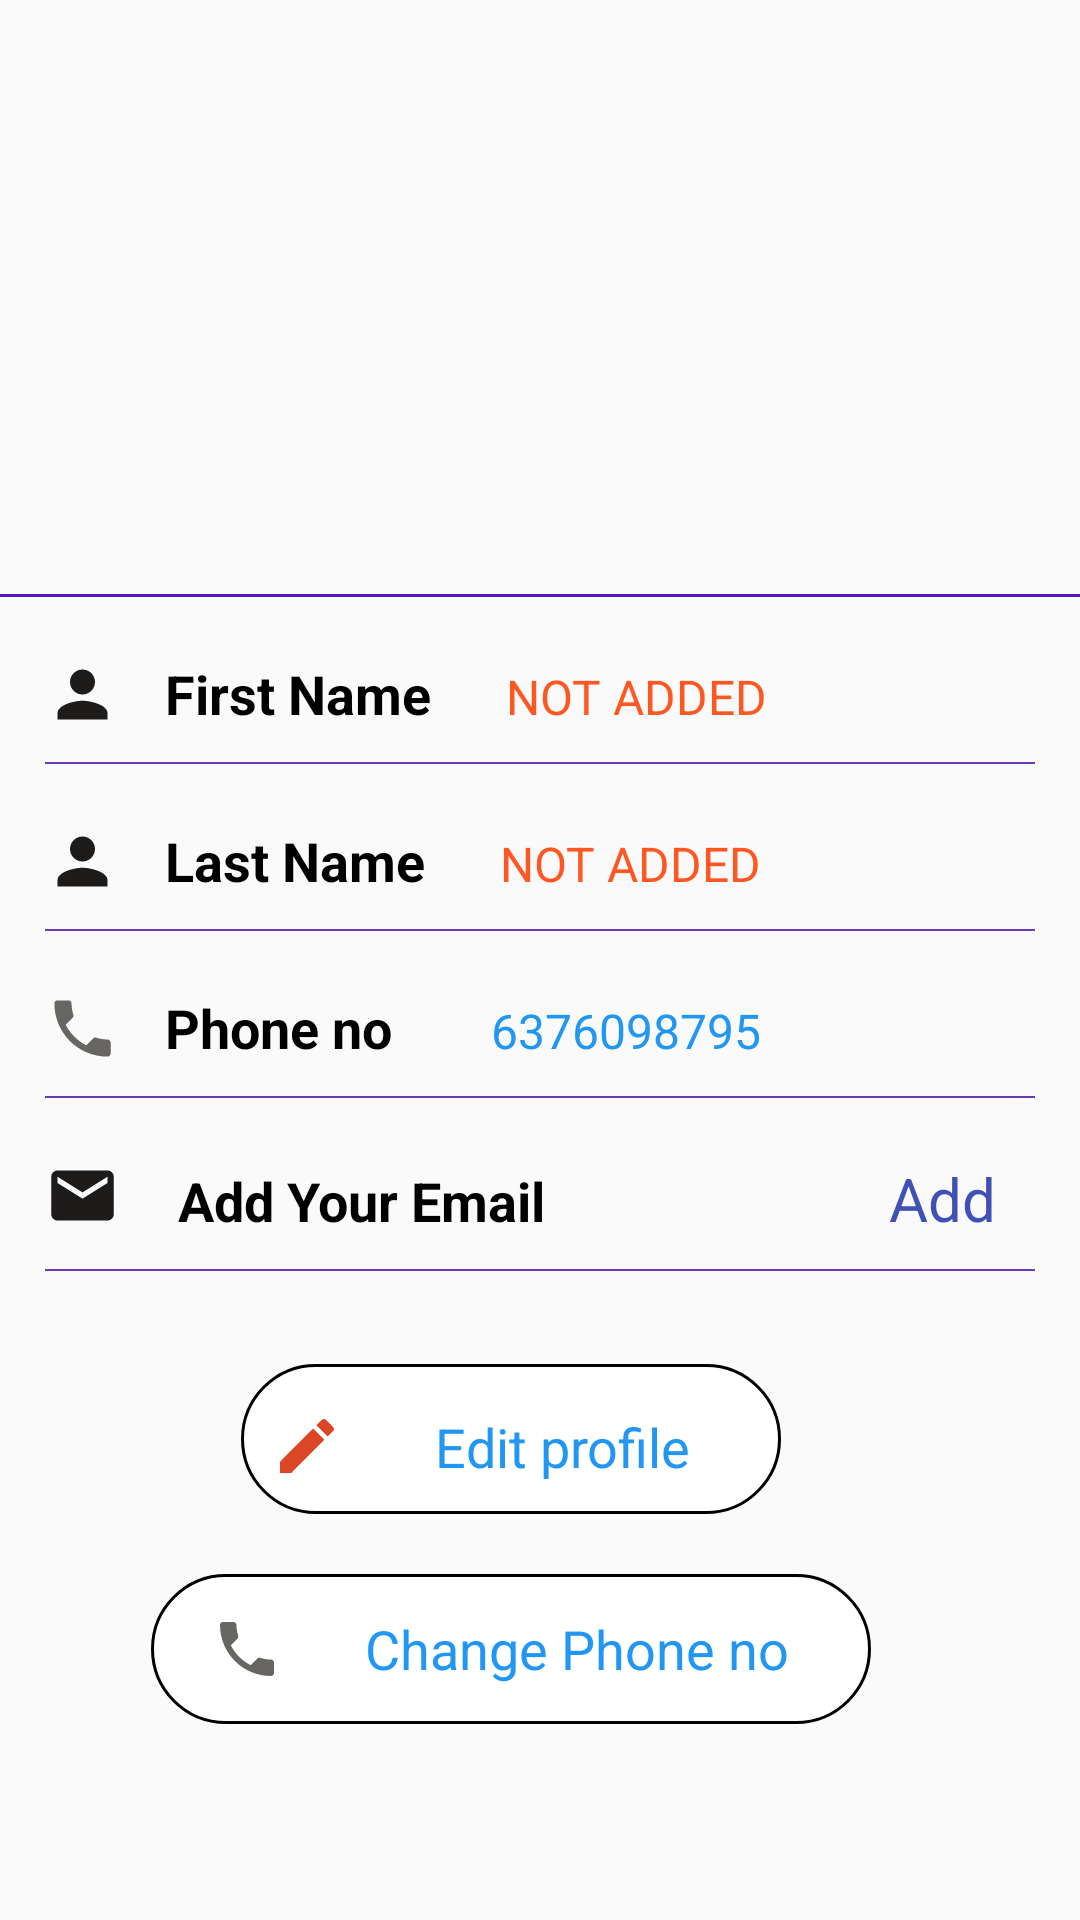

Named icons in this screenshot (1080px x 1920px) and their centers, (x=x, y=y):
personprofile: (x=82, y=694), (x=82, y=861)
